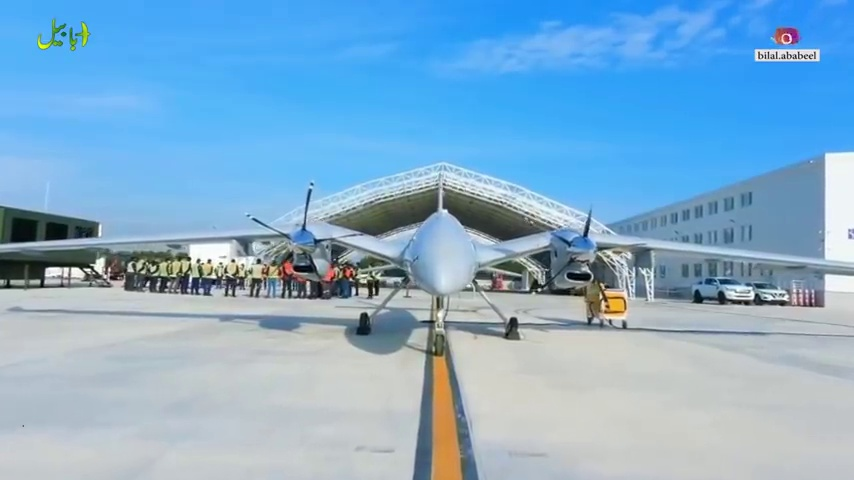military drone: (0, 171, 854, 356)
